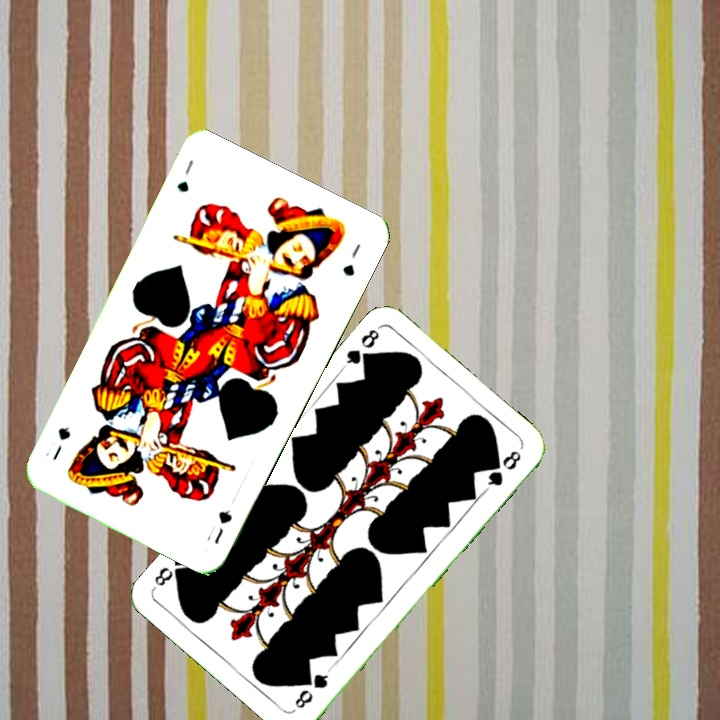G8: (338, 323, 382, 372), (291, 665, 333, 712)
GU: (210, 505, 235, 547), (172, 155, 196, 196)
